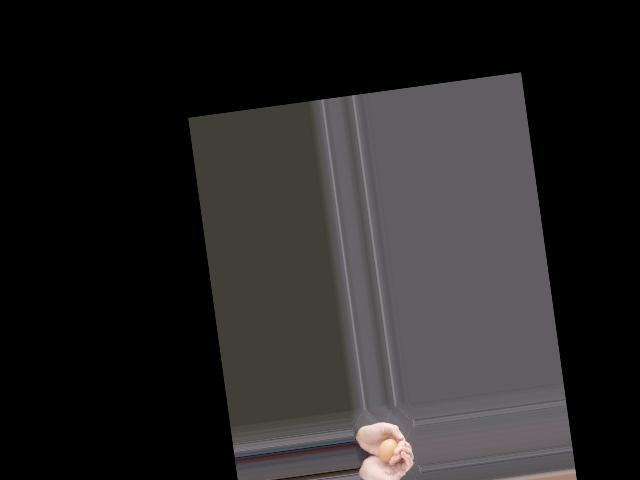egg: (376, 438, 399, 464)
